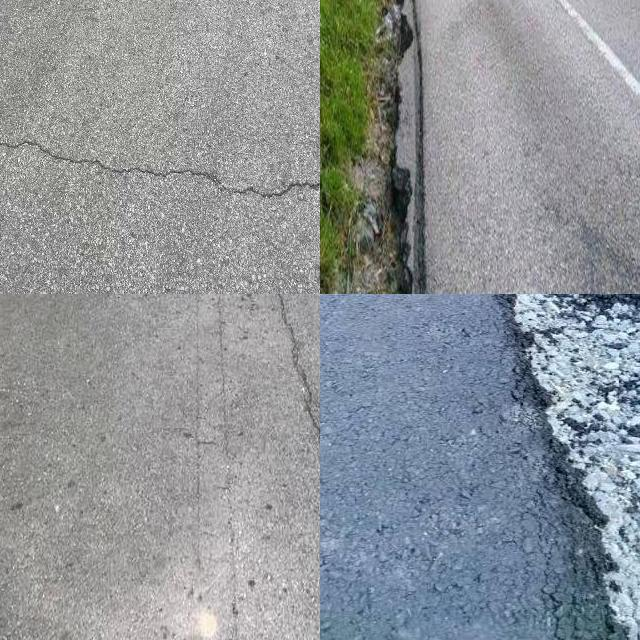Melintang: (0, 131, 320, 210)
Memanjang: (241, 294, 320, 545)
Pinggir: (474, 294, 640, 640), (359, 0, 441, 294)
